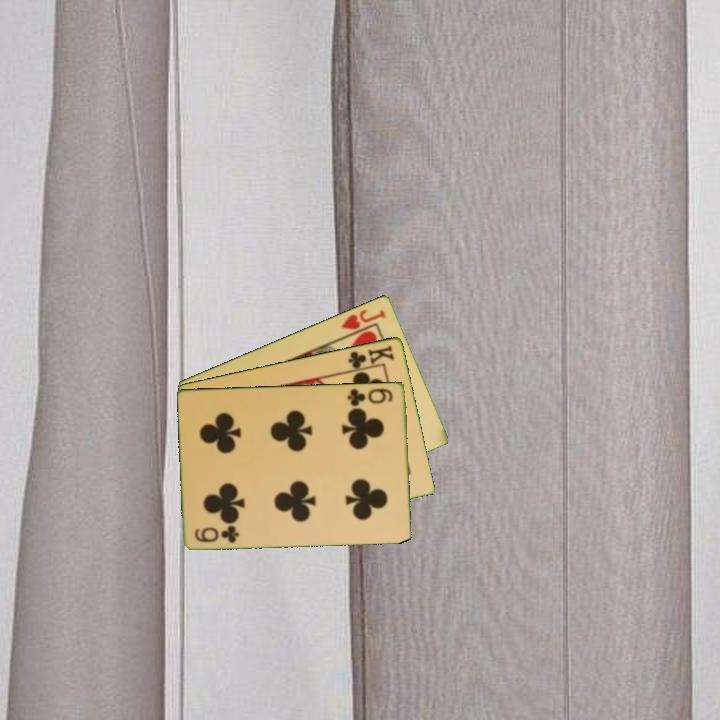6c: (344, 384, 396, 408), (192, 522, 242, 545)
Jh: (338, 305, 389, 341)
Kc: (344, 341, 397, 374)
